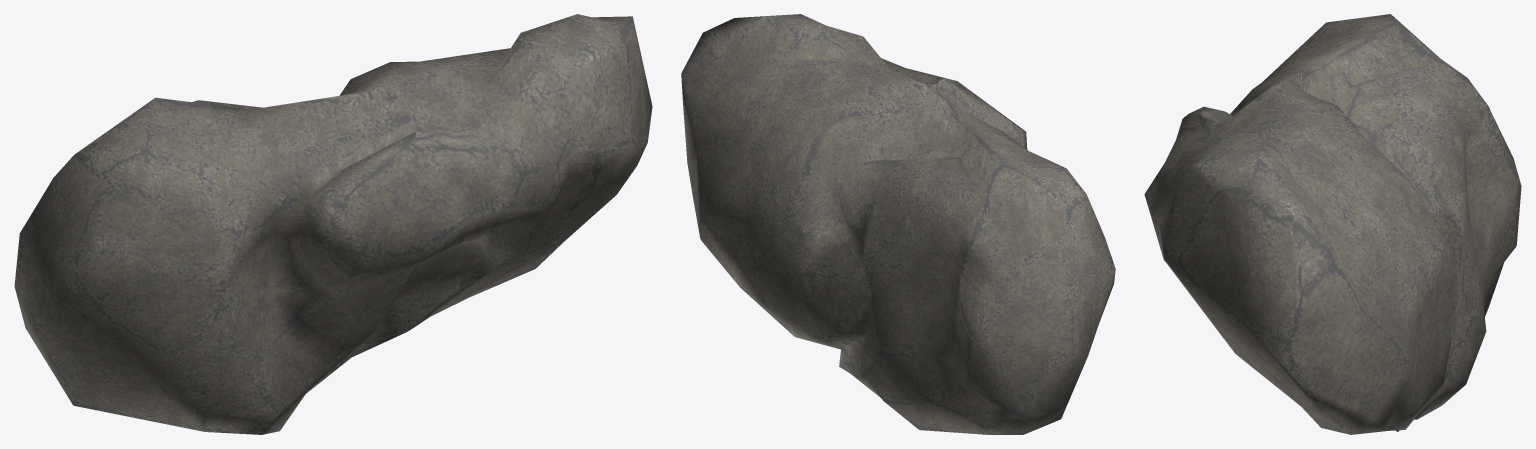
The model's file is Gray_Rock_II.glb.
The picture shows the model from 3 angles, left to right: view 1: azimuth 30°, elevation 25°; view 2: azimuth 150°, elevation 25°; view 3: azimuth 270°, elevation 25°; orthographic projection. The views are drawn at different scales.
Parts seen in each view (by area): view 1: defaultMaterial; view 2: defaultMaterial; view 3: defaultMaterial.
Boxes of the visible parts, left/top/right/bottom form: defaultMaterial: left=14, top=14, right=652, bottom=434; defaultMaterial: left=681, top=14, right=1115, bottom=434; defaultMaterial: left=1144, top=14, right=1521, bottom=434.
Bounding box in the file's own units: 2 × 1.31 × 1.13.
1 material, 1 textured.
